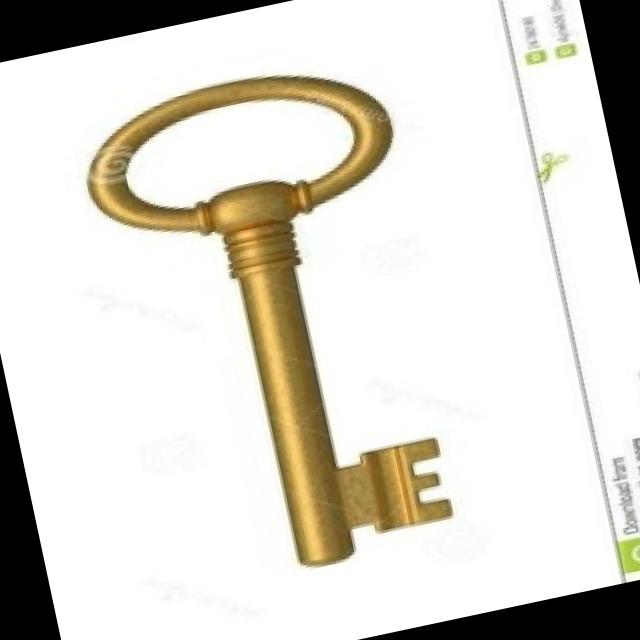anahtar: (55, 36, 493, 607)
